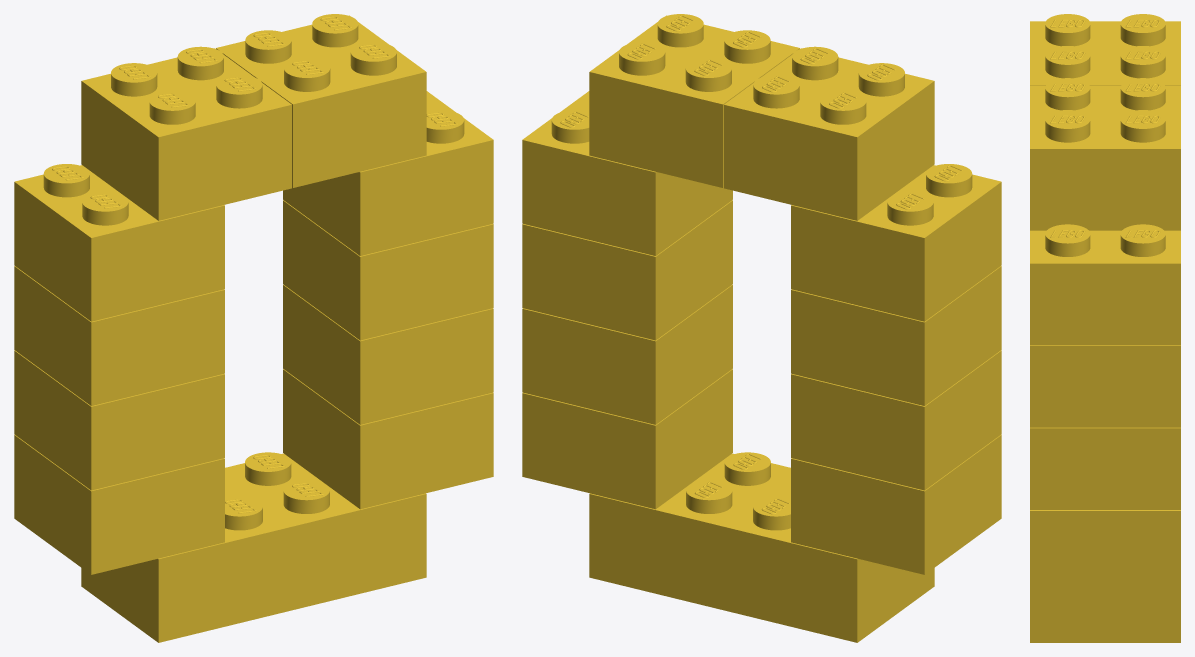
The picture shows the model from 3 angles, left to right: view 1: azimuth 30°, elevation 25°; view 2: azimuth 150°, elevation 25°; view 3: azimuth 270°, elevation 25°; orthographic projection. The views are drawn at different scales.
Visible parts, largest first — view 1: Inner-Node-O_dot_io-10, Inner-Node-O_dot_io-6, Inner-Node-O_dot_io-3, Inner-Node-O_dot_io-7, Inner-Node-O_dot_io-2, Inner-Node-O_dot_io-8, Inner-Node-O_dot_io-9, Inner-Node-O_dot_io-0, Inner-Node-O_dot_io-1, Inner-Node-O_dot_io-5, Inner-Node-O_dot_io-4; view 2: Inner-Node-O_dot_io-10, Inner-Node-O_dot_io-6, Inner-Node-O_dot_io-3, Inner-Node-O_dot_io-7, Inner-Node-O_dot_io-2, Inner-Node-O_dot_io-8, Inner-Node-O_dot_io-9, Inner-Node-O_dot_io-0, Inner-Node-O_dot_io-1, Inner-Node-O_dot_io-5, Inner-Node-O_dot_io-4; view 3: Inner-Node-O_dot_io-7, Inner-Node-O_dot_io-4, Inner-Node-O_dot_io-1, Inner-Node-O_dot_io-5, Inner-Node-O_dot_io-8, Inner-Node-O_dot_io-6, Inner-Node-O_dot_io-10.
Boxes of the visible parts, x1,y1,x2,y2 form: Inner-Node-O_dot_io-10: (81,452,426,642); Inner-Node-O_dot_io-6: (81,46,291,220); Inner-Node-O_dot_io-3: (14,164,224,321); Inner-Node-O_dot_io-7: (216,14,426,187); Inner-Node-O_dot_io-2: (14,434,224,574); Inner-Node-O_dot_io-8: (283,284,493,424); Inner-Node-O_dot_io-9: (14,266,224,405); Inner-Node-O_dot_io-0: (14,350,224,490); Inner-Node-O_dot_io-1: (283,200,493,340); Inner-Node-O_dot_io-5: (283,369,493,509); Inner-Node-O_dot_io-4: (283,91,493,255); Inner-Node-O_dot_io-10: (589,452,934,642); Inner-Node-O_dot_io-6: (724,46,934,220); Inner-Node-O_dot_io-3: (791,164,1001,321); Inner-Node-O_dot_io-7: (589,14,799,187); Inner-Node-O_dot_io-2: (791,434,1001,574); Inner-Node-O_dot_io-8: (522,284,732,424); Inner-Node-O_dot_io-9: (791,266,1001,405); Inner-Node-O_dot_io-0: (791,350,1001,490); Inner-Node-O_dot_io-1: (522,200,732,340); Inner-Node-O_dot_io-5: (522,369,732,509); Inner-Node-O_dot_io-4: (522,91,732,255); Inner-Node-O_dot_io-7: (1030,78,1180,230); Inner-Node-O_dot_io-4: (1030,224,1180,345); Inner-Node-O_dot_io-1: (1030,345,1180,427); Inner-Node-O_dot_io-5: (1030,510,1180,592); Inner-Node-O_dot_io-8: (1030,427,1180,509); Inner-Node-O_dot_io-6: (1030,14,1180,85); Inner-Node-O_dot_io-10: (1030,592,1180,642).
Size of the model in its own units: 120 by 148 by 39.75.
